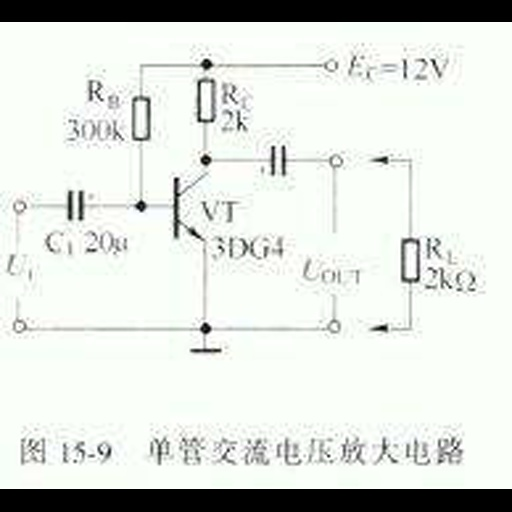capacitor: (265, 139, 293, 182), (58, 185, 87, 224)
firstresistance: (392, 231, 423, 292), (128, 90, 155, 146), (193, 77, 218, 127)
npn: (155, 168, 212, 257)
